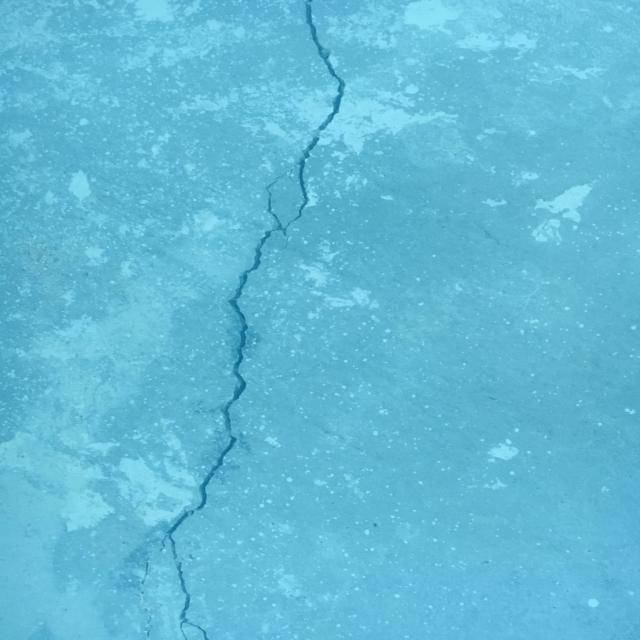crack: (159, 0, 347, 640), (140, 557, 150, 584), (147, 616, 154, 636)
